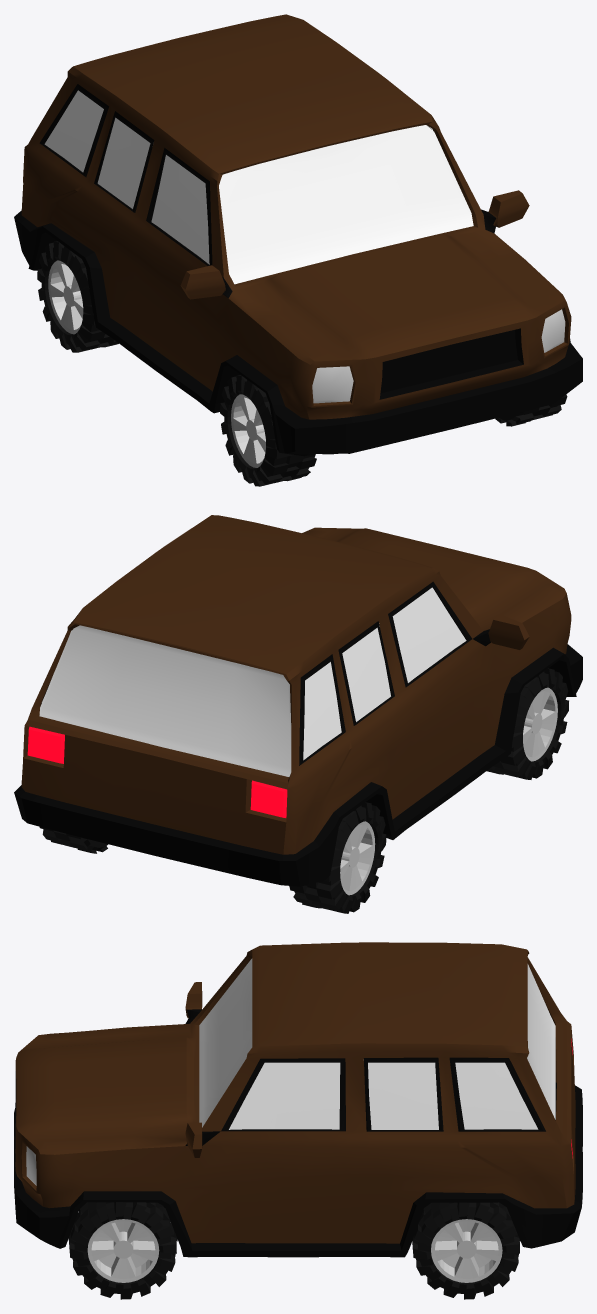
Rendered from game_jam_car (1) 1.fbx.
The picture shows the model from 3 angles, top to bottom: view 1: azimuth 30°, elevation 25°; view 2: azimuth 150°, elevation 25°; view 3: azimuth 270°, elevation 25°; orthographic projection. The views are drawn at different scales.
Visible parts, largest first — view 1: Cube, Cube.002, Cube.003, Cube.001, Cube.005; view 2: Cube, Cube.002, Cube.001, Cube.003, Cube.004; view 3: Cube, Cube.002, Cube.005, Cube.004.
Part boxes in pixels (box(x1,y1,x2,y2)): Cube: box(14, 14, 582, 456); Cube.002: box(44, 90, 473, 284); Cube.003: box(220, 375, 316, 486); Cube.001: box(37, 241, 118, 352); Cube.005: box(495, 394, 567, 426); Cube: box(14, 515, 582, 886); Cube.002: box(39, 587, 466, 776); Cube.001: box(289, 802, 386, 913); Cube.003: box(486, 668, 568, 779); Cube.004: box(39, 827, 107, 853); Cube: box(14, 942, 582, 1257); Cube.002: box(199, 958, 555, 1129); Cube.005: box(68, 1202, 177, 1299); Cube.004: box(412, 1202, 520, 1299).
Size of the model in its own units: 1043 by 751 by 1591.
